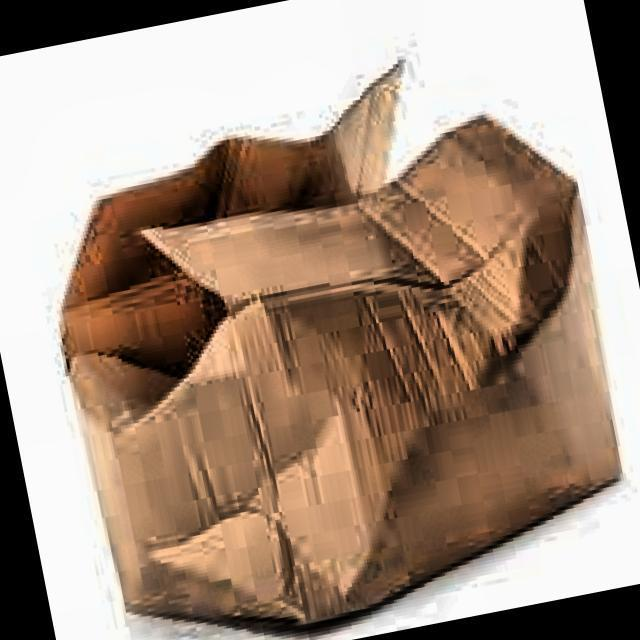cardboard: (15, 28, 640, 640)
